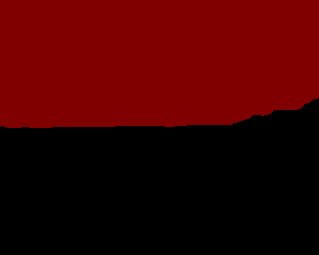Sky: (1, 1, 318, 254)
